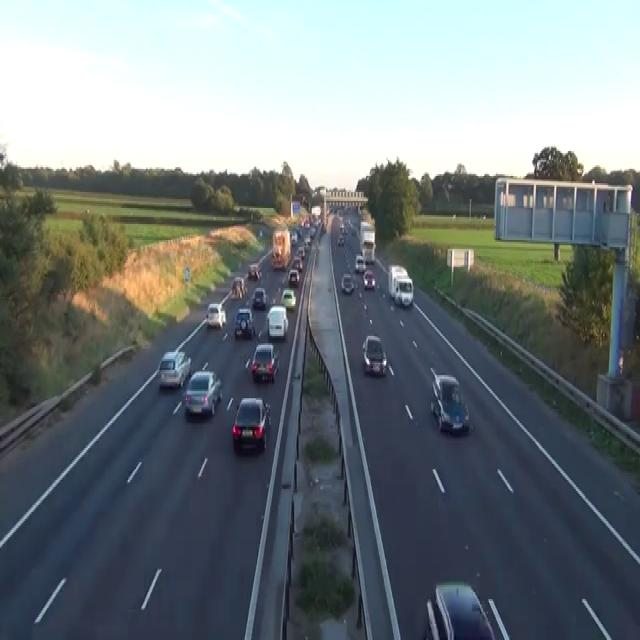Car: (425, 580, 495, 638), (429, 368, 470, 436), (232, 396, 271, 452), (184, 370, 222, 416), (158, 350, 191, 388), (251, 343, 279, 382), (362, 334, 387, 375), (266, 304, 288, 340), (388, 263, 407, 297), (234, 308, 254, 338), (394, 276, 413, 306), (206, 302, 226, 329), (252, 286, 267, 310), (231, 276, 247, 298), (280, 288, 296, 309), (362, 238, 375, 263), (340, 272, 354, 293), (271, 247, 284, 269), (363, 268, 375, 290), (354, 254, 366, 272), (288, 267, 299, 286), (248, 263, 261, 279), (362, 230, 375, 246), (291, 256, 302, 270), (339, 222, 347, 235), (297, 245, 305, 258), (290, 231, 297, 245), (303, 236, 310, 249), (302, 217, 310, 227), (312, 217, 320, 226), (337, 235, 344, 245), (309, 226, 316, 236), (320, 222, 326, 233), (328, 204, 334, 213), (301, 196, 307, 204), (350, 226, 356, 234), (297, 228, 303, 236), (259, 230, 262, 237)
Truck: (271, 228, 290, 268), (359, 221, 375, 263)
